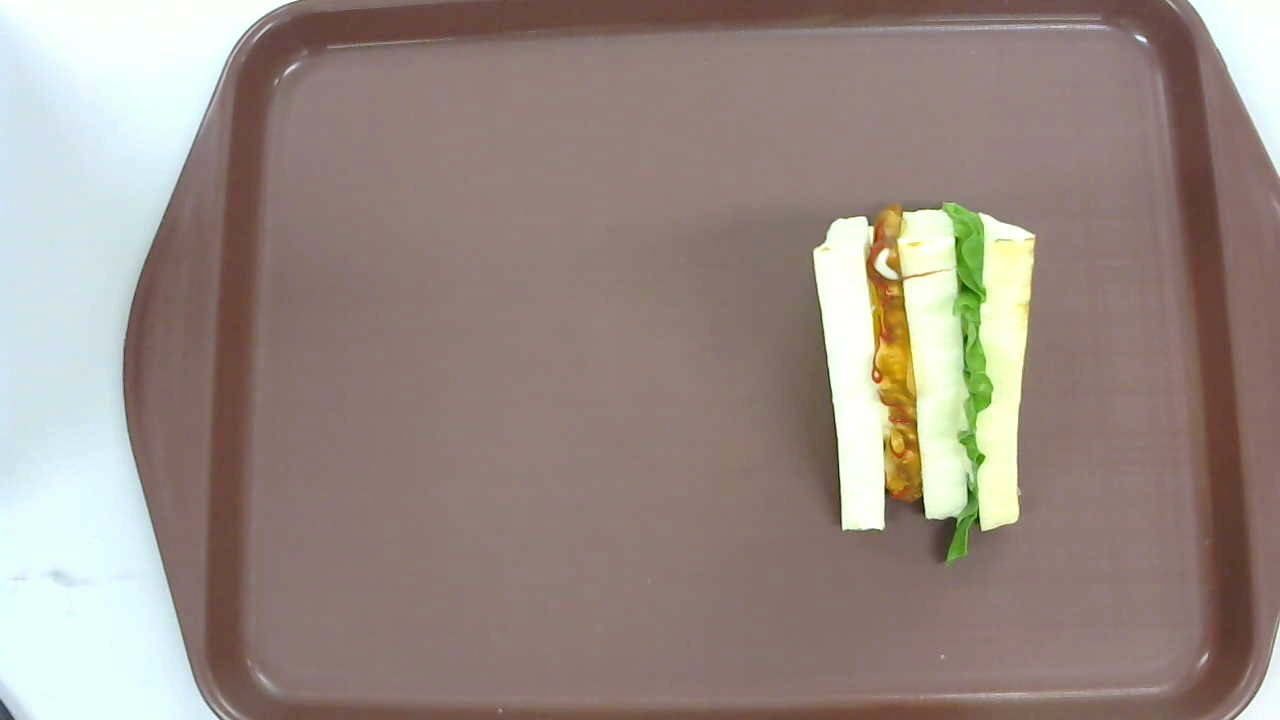sandwich: (812, 201, 1036, 563)
